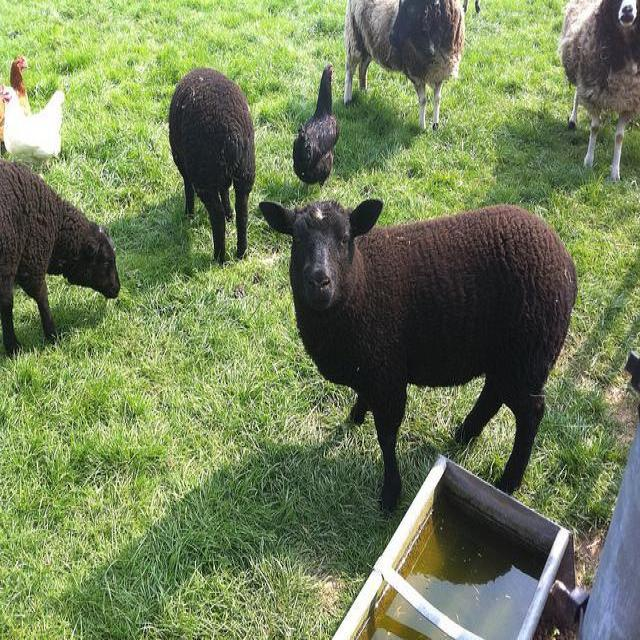Sheep: (259, 200, 581, 520), (0, 160, 120, 362), (168, 68, 256, 265), (346, 0, 466, 141), (560, 0, 639, 181)
